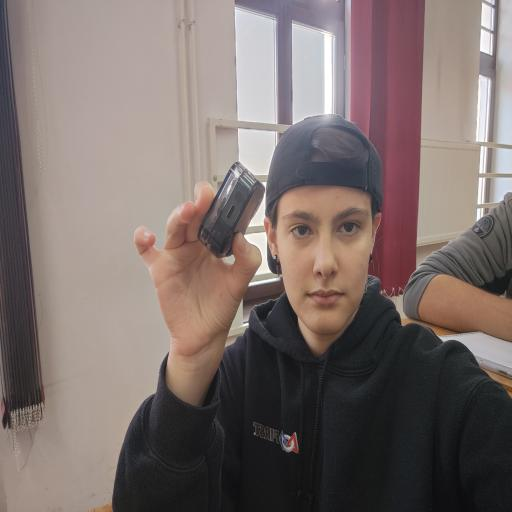Headphones: (196, 157, 268, 264)
